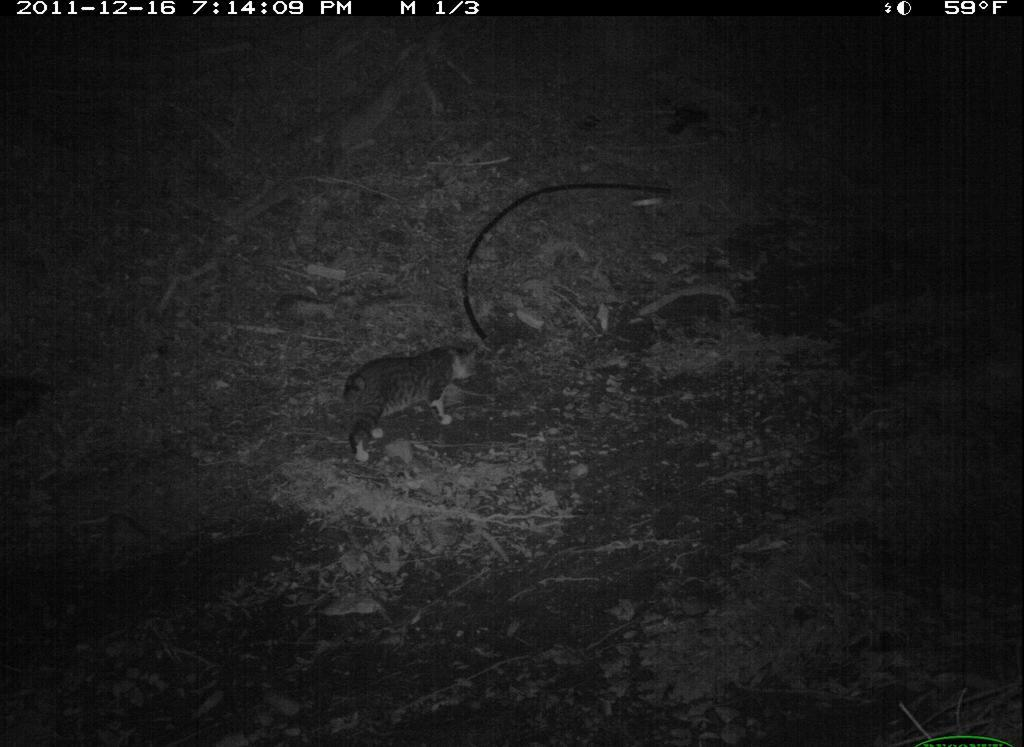cat: (323, 332, 494, 468)
